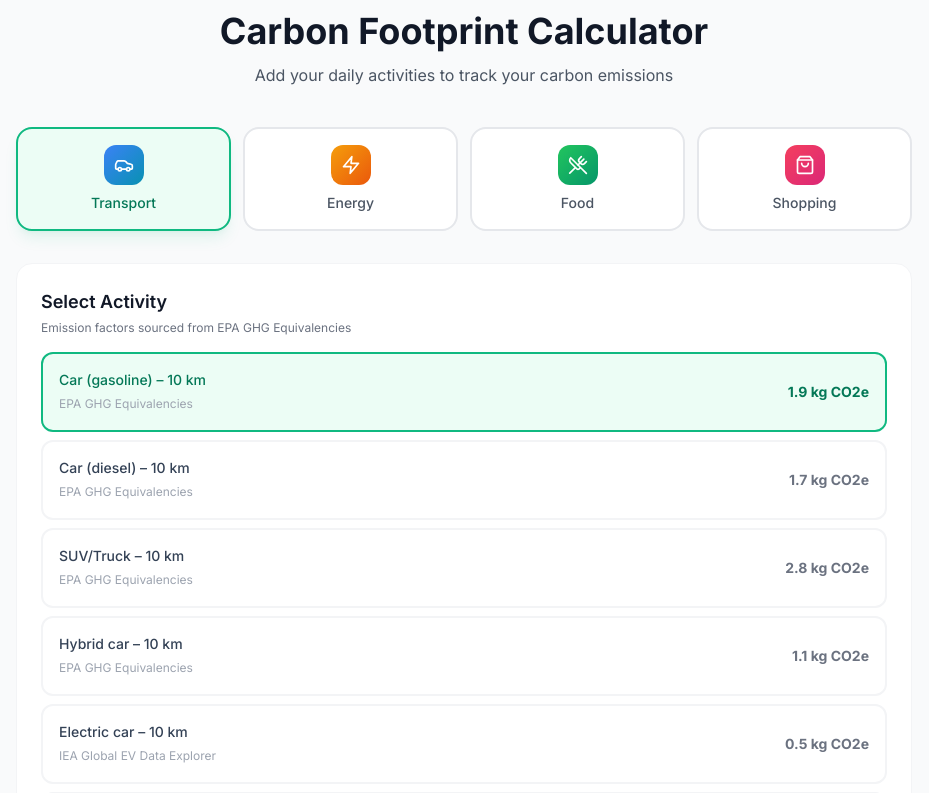
it: Calculator › switches category when clicking a tab
This screenshot has width=929, height=793.
What coordinates should you click on to do the following:
click the tab with aria-label "energy category"
I would click on:
 (350, 179)
Its box is [243,127,458,231].
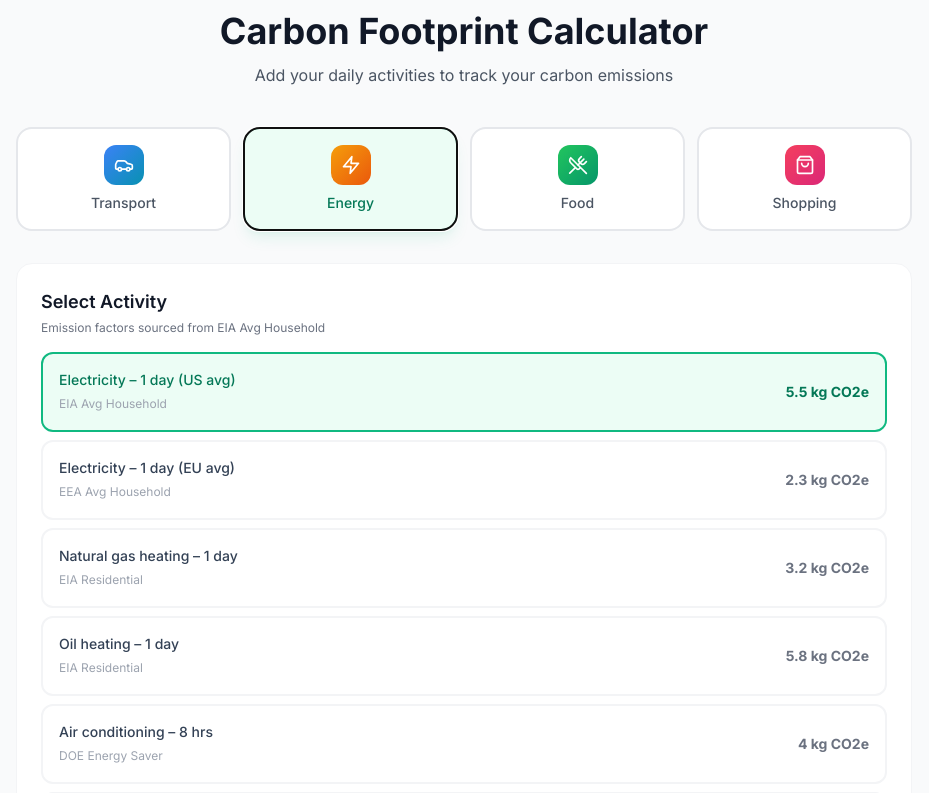
Expected: the text "Electricity – 1 day (US avg)" is shown, [59,371,236,388]
